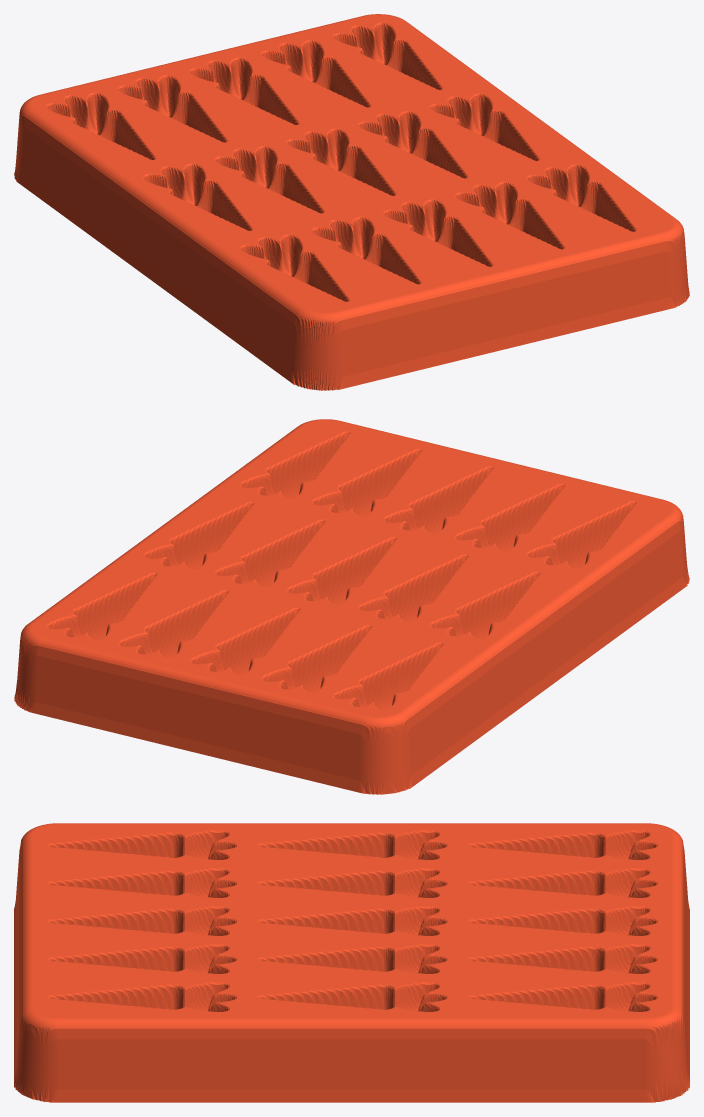
The model's file is mold.glb.
3 views of the same model, one above another, from view 1: azimuth 30°, elevation 25°; view 2: azimuth 150°, elevation 25°; view 3: azimuth 270°, elevation 25° (orthographic). The views are drawn at different scales.
Visible parts, largest first — view 1: geometry_0; view 2: geometry_0; view 3: geometry_0.
Boxes of the visible parts, x1,y1,x2,y2 form: geometry_0: (14,14,689,390); geometry_0: (14,419,689,794); geometry_0: (14,823,689,1102).
Bounding box in the file's own units: 0.1018 × 0.0175 × 0.1392.
